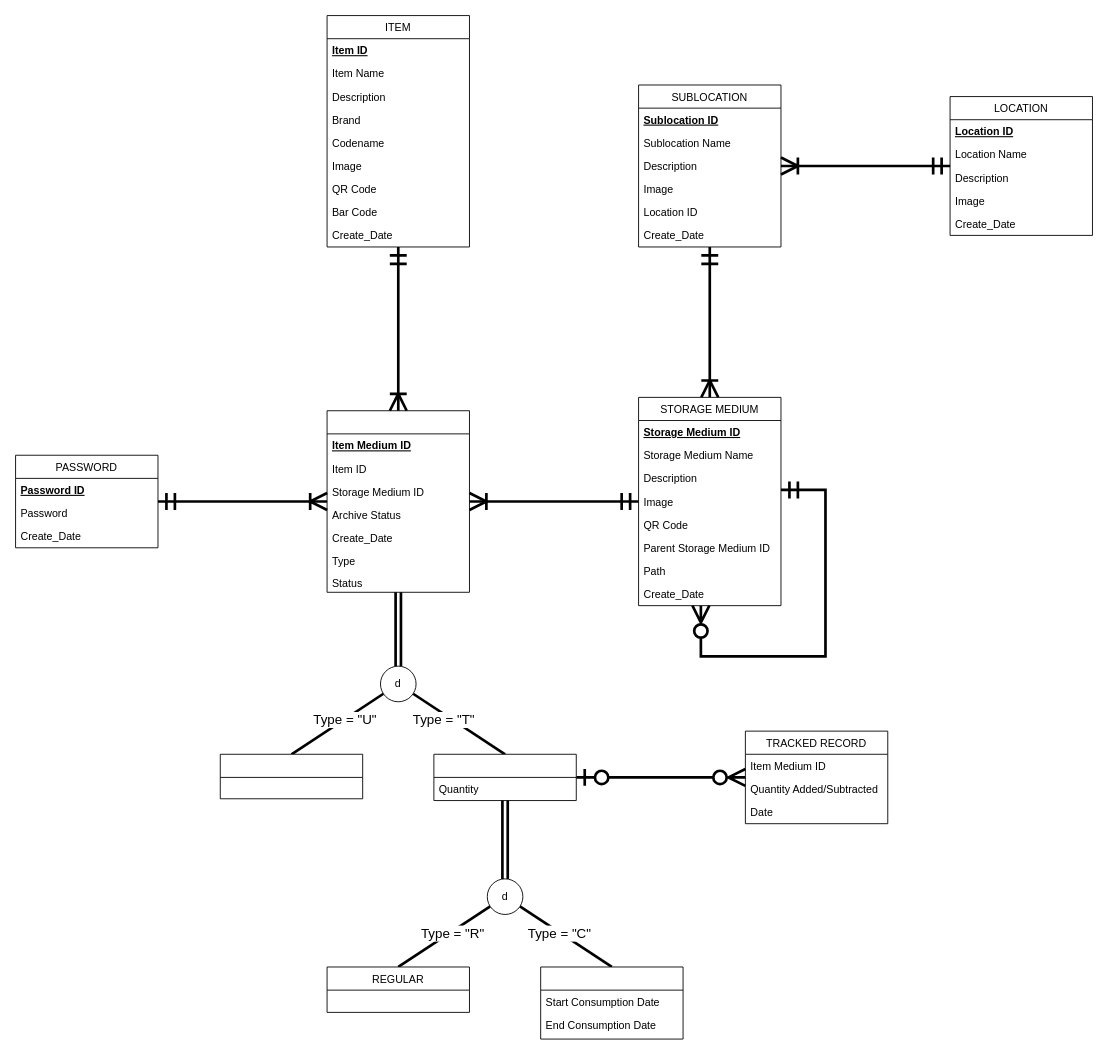
Image size: 1108x1055. Some labels were removed from this diagram. Here are the shapes that lost their labels. From the top down, the box of each, then its label:
(326, 410, 469, 592): ITEM MEDIUM LINE
(219, 753, 363, 799): UNTRACKED
(433, 753, 576, 801): TRACKED
(540, 966, 683, 1039): CONSUMABLE
